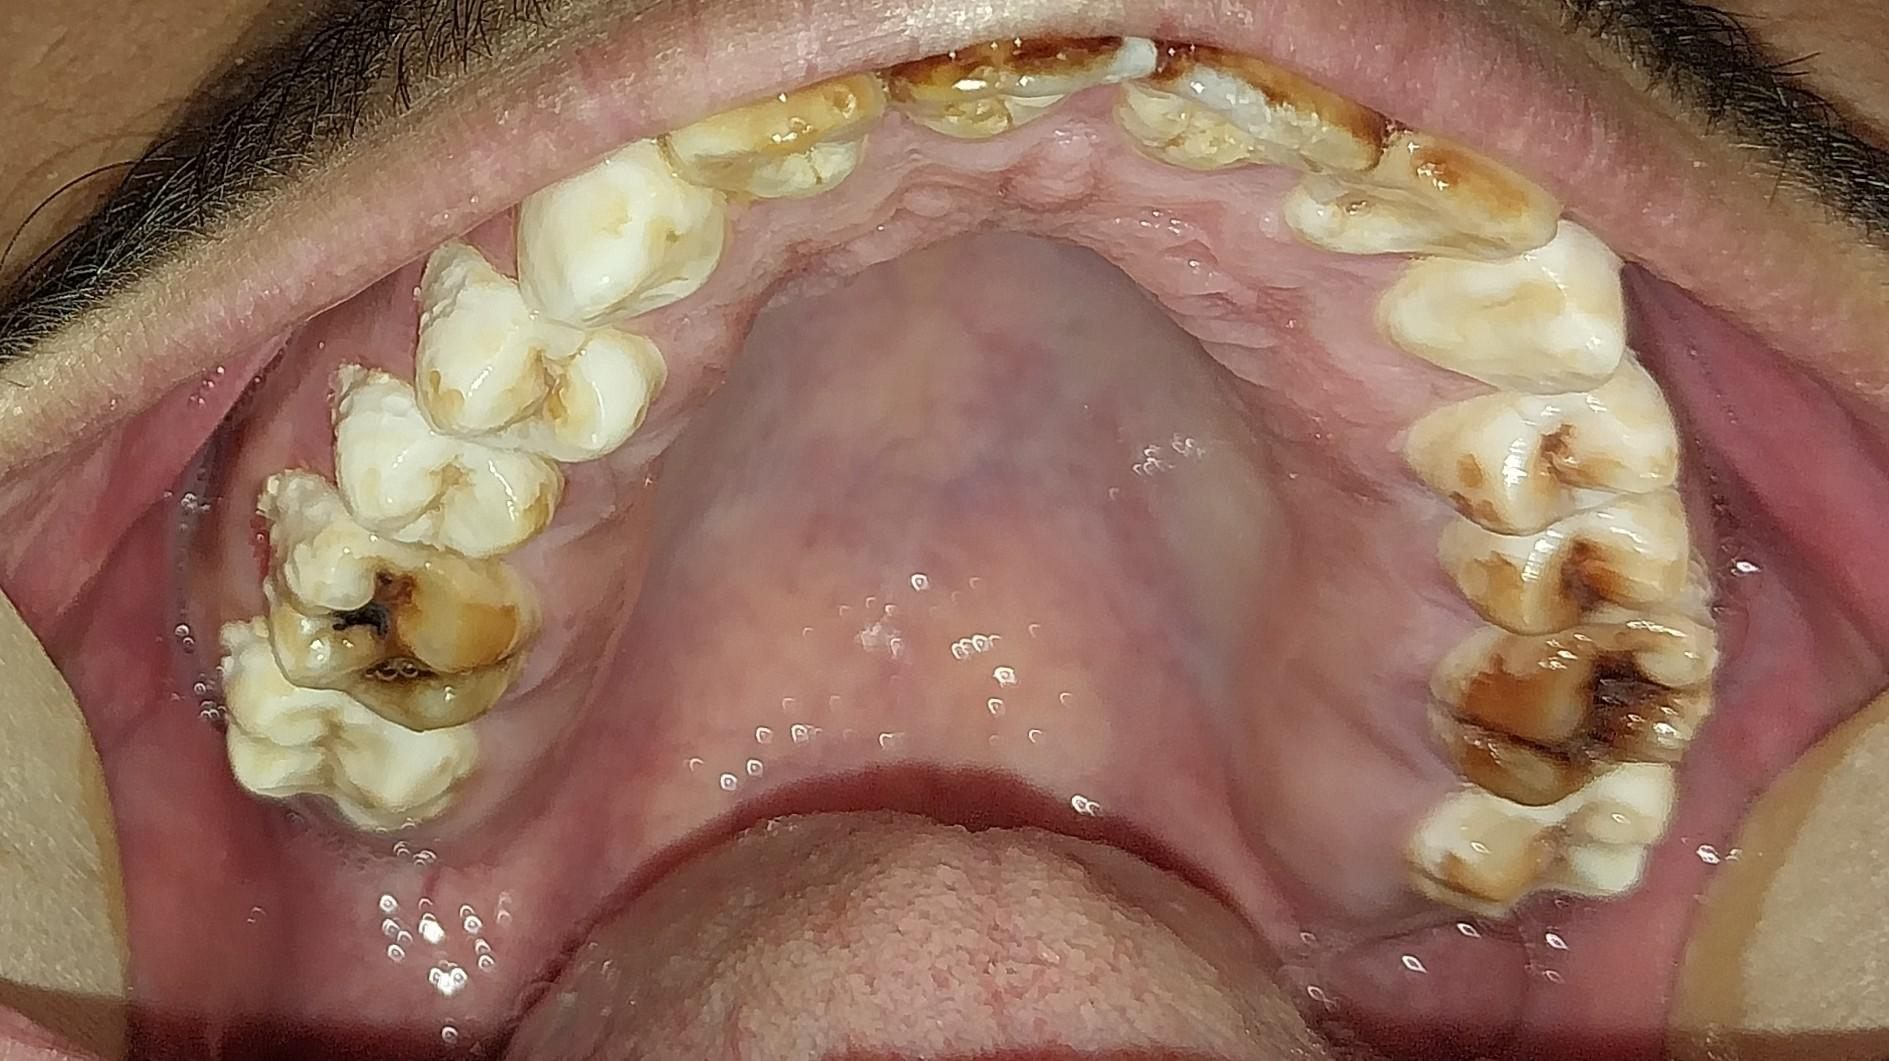D: (262, 512, 522, 737), (1435, 617, 1713, 810)
